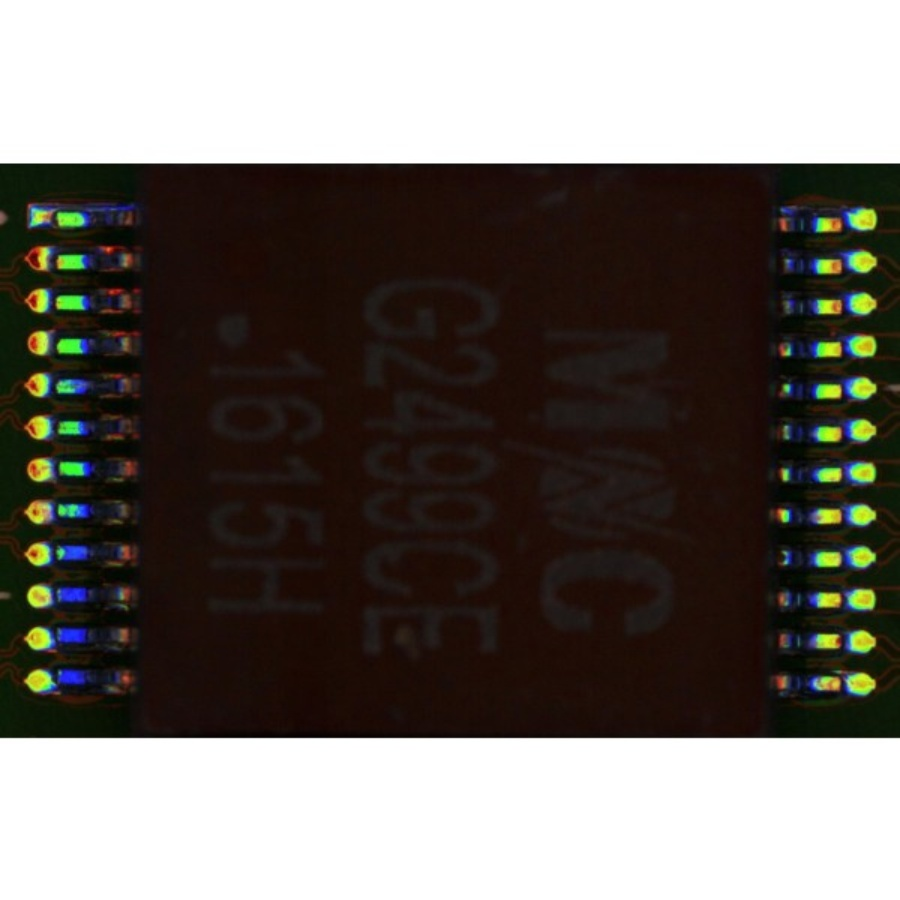Bad_podu: (43, 209, 64, 224)
